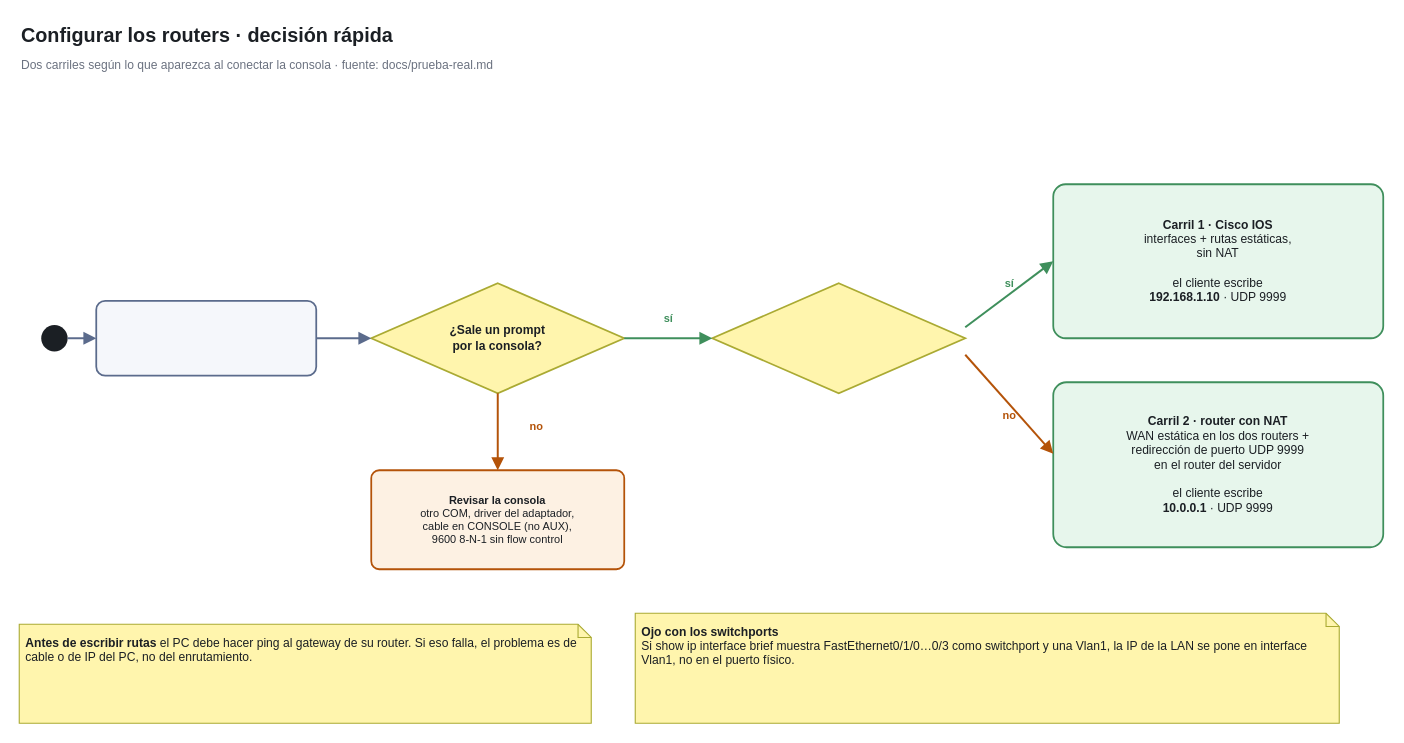
This 1404x743 diagram has some shape labels left out. Here are the shapes that lost their labels. From the top down, the box of each, then its label:
(95, 299, 317, 376): Router en la mesa encendido y cableado consola al PC
(711, 282, 966, 394): ¿Responde a comandos IOS?
